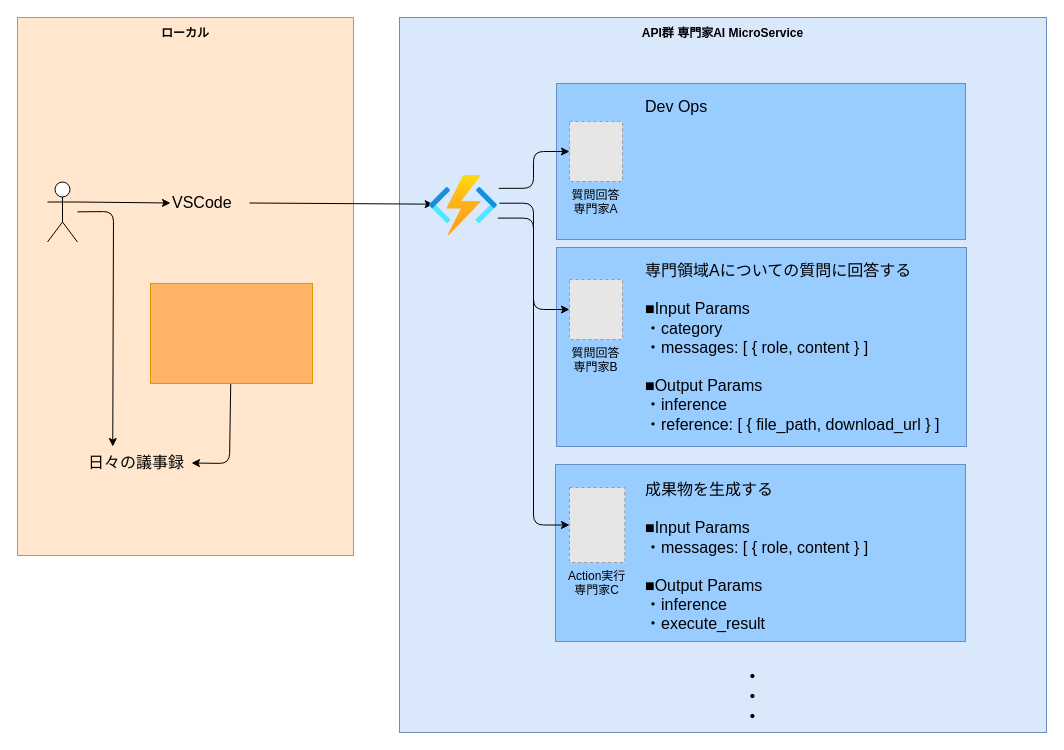
Some shapes in this 1064 by 750 pixel diagram are drawn without their labels. Grey dashed boxes stand in for pictures. Each missing label, with the box of its shape:
Durable Functions AIオーケストレーション: (429, 175, 497, 235)
LocalFile MCP: (150, 282, 312, 384)
User: (46, 181, 78, 242)
